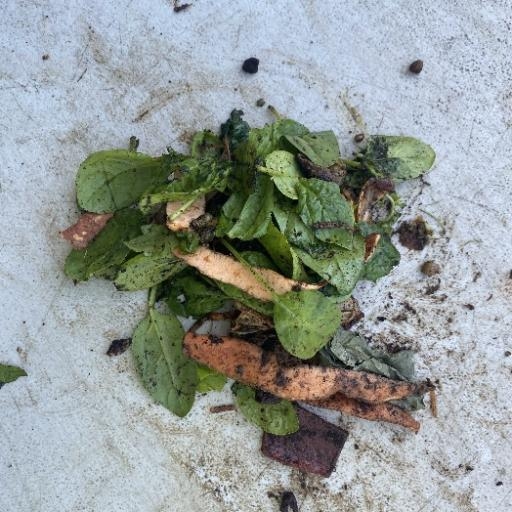Waste: (58, 105, 440, 462)
